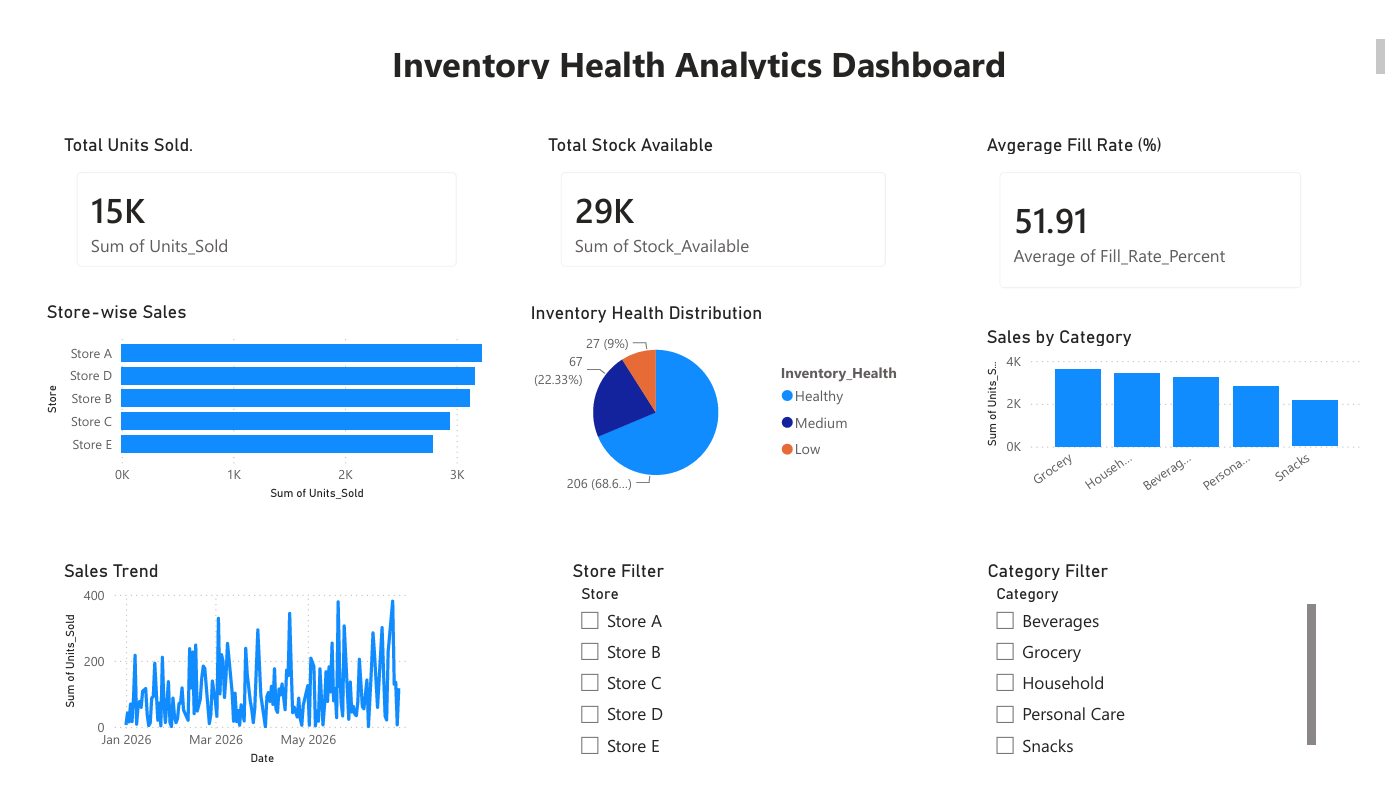

This screenshot's page, from the dashboard's own definition file:
{"tool":"powerbi","page":{"name":"Page 1","canvas":[1280,720],"ordinal":0},"visuals":[{"type":"cardVisual","title":"Total Units Sold.","fields":{"Data":["Sum(InventoryData.Units_Sold)"]},"box":[38.6,107.1,388.6,142.9],"z":0},{"type":"cardVisual","title":"Avgerage Fill Rate (%)","fields":{"Data":["Avg(InventoryData.Fill_Rate_Percent)"]},"box":[898.6,107.1,315.7,162.9],"z":1000},{"type":"cardVisual","title":"Total Stock Available","fields":{"Data":["Sum(InventoryData.Stock_Available)"]},"box":[490,107.1,337.1,142.9],"z":2000},{"type":"clusteredBarChart","title":"Store-wise Sales","fields":{"Category":["InventoryData.Store"],"Y":["Sum(InventoryData.Units_Sold)"]},"box":[22.9,262.9,451.4,190],"z":3000},{"type":"pieChart","title":"Inventory Health Distribution","fields":{"Category":["InventoryData.Inventory_Health"],"Y":["CountNonNull(InventoryData.Product)"]},"box":[474.3,264.3,352.9,187.1],"z":4000},{"type":"clusteredColumnChart","title":"Sales by Category","fields":{"Y":["Sum(InventoryData.Units_Sold)"],"Category":["InventoryData.Category"]},"box":[898.6,285.7,361.4,167.1],"z":5000},{"type":"lineChart","title":"Sales Trend","fields":{"Y":["Sum(InventoryData.Units_Sold)"],"Category":["InventoryData.Date"]},"box":[38.6,504.3,348.6,195.7],"z":6000},{"type":"slicer","title":"Store Filter","fields":{"Values":["InventoryData.Store"]},"box":[512.9,504.3,277.1,195.7],"z":7000},{"type":"slicer","title":"Category Filter","fields":{"Values":["InventoryData.Category"]},"box":[900,504.3,315.7,190],"z":8000},{"type":"textbox","box":[0,14.3,1280,47.1],"z":9000}]}

Visuals, with their boxes on the page's 1280x720 design canvas (x1, y1, x2, y2). These are canvas units, not pixel positions in the 1387x805 screenshot, which may show the page scaled, cropped or inside an application window:
"Total Units Sold." cardVisual: box(39, 107, 427, 250)
"Avgerage Fill Rate (%)" cardVisual: box(899, 107, 1214, 270)
"Total Stock Available" cardVisual: box(490, 107, 827, 250)
"Store-wise Sales" clusteredBarChart: box(23, 263, 474, 453)
"Inventory Health Distribution" pieChart: box(474, 264, 827, 451)
"Sales by Category" clusteredColumnChart: box(899, 286, 1260, 453)
"Sales Trend" lineChart: box(39, 504, 387, 700)
"Store Filter" slicer: box(513, 504, 790, 700)
"Category Filter" slicer: box(900, 504, 1216, 694)
textbox: box(0, 14, 1280, 61)
